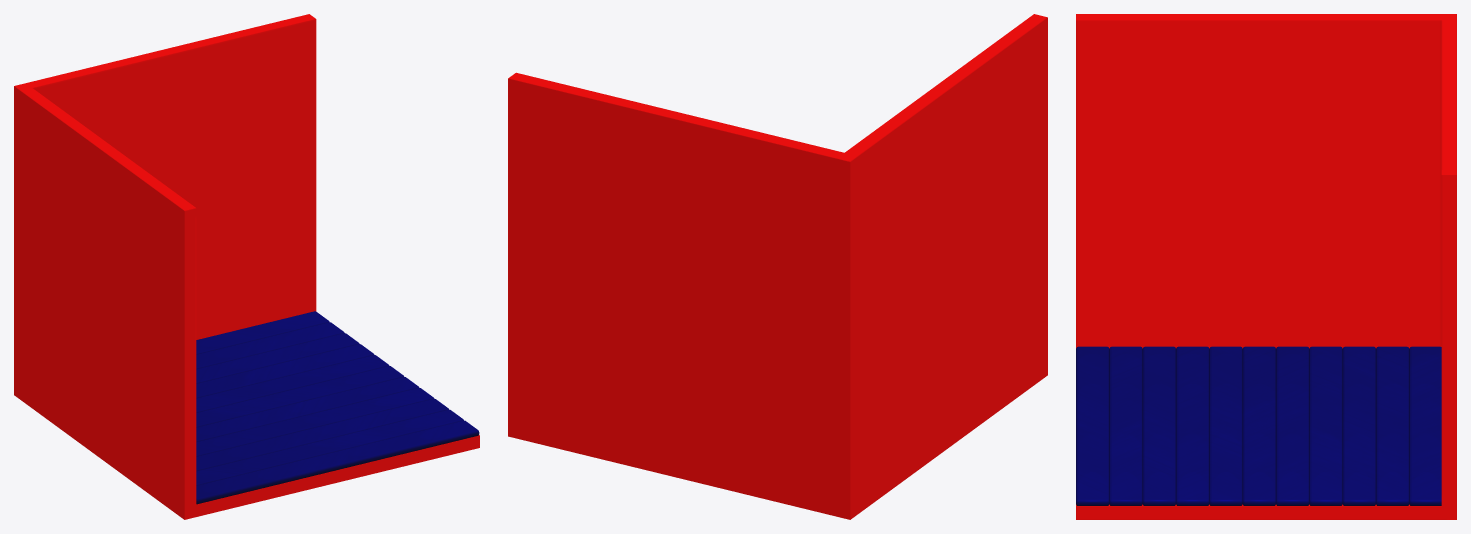
The model's file is background.glb.
3 renders of one model, left to right at view 1: azimuth 30°, elevation 25°; view 2: azimuth 150°, elevation 25°; view 3: azimuth 270°, elevation 25°, orthographic. The views are drawn at different scales.
Visible parts, largest first — view 1: room1_wall; view 2: room1_wall; view 3: room1_wall.
Part boxes in pixels (bbox=[...]): room1_wall: bbox=[14, 14, 479, 519]; room1_wall: bbox=[508, 14, 1047, 519]; room1_wall: bbox=[1076, 14, 1456, 519].
Size of the model in its own units: 12.5 by 12.5 by 12.5.
1 material, 1 textured.
